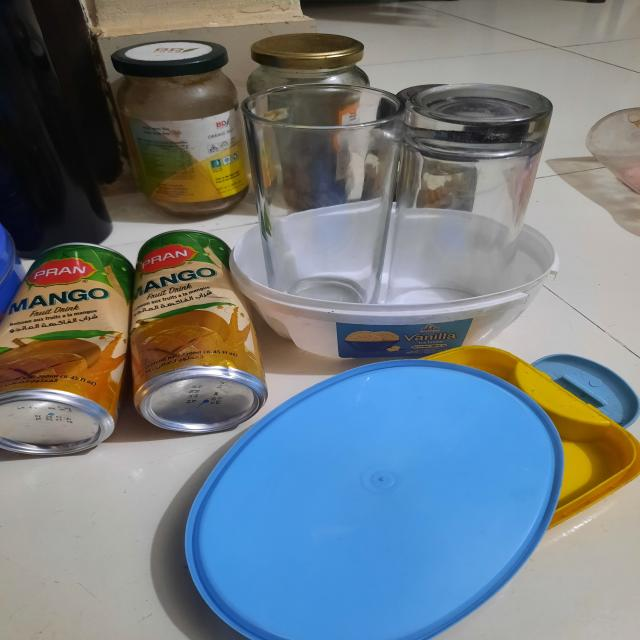Glass: (141, 79, 554, 209)
Plastics: (234, 322, 640, 640)
can: (0, 208, 254, 449)
